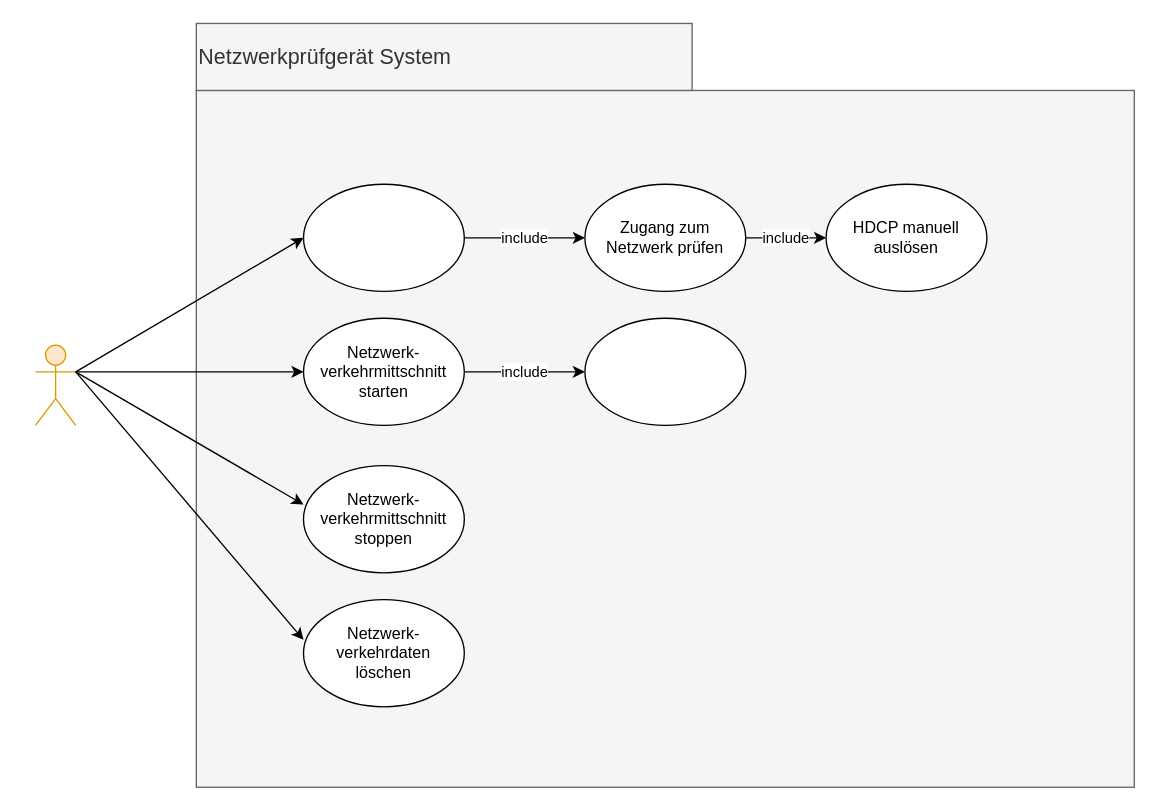
Some shapes in this 1158 by 811 pixel diagram are drawn without their labels. The centre of each missing label's shape, as x and y in pixels:
Benutzer: point 55,384
DHCP Informationen anzeigen lassen: point 383,237
Netzvwerkerkehr anzeigen lassen: point 665,371
